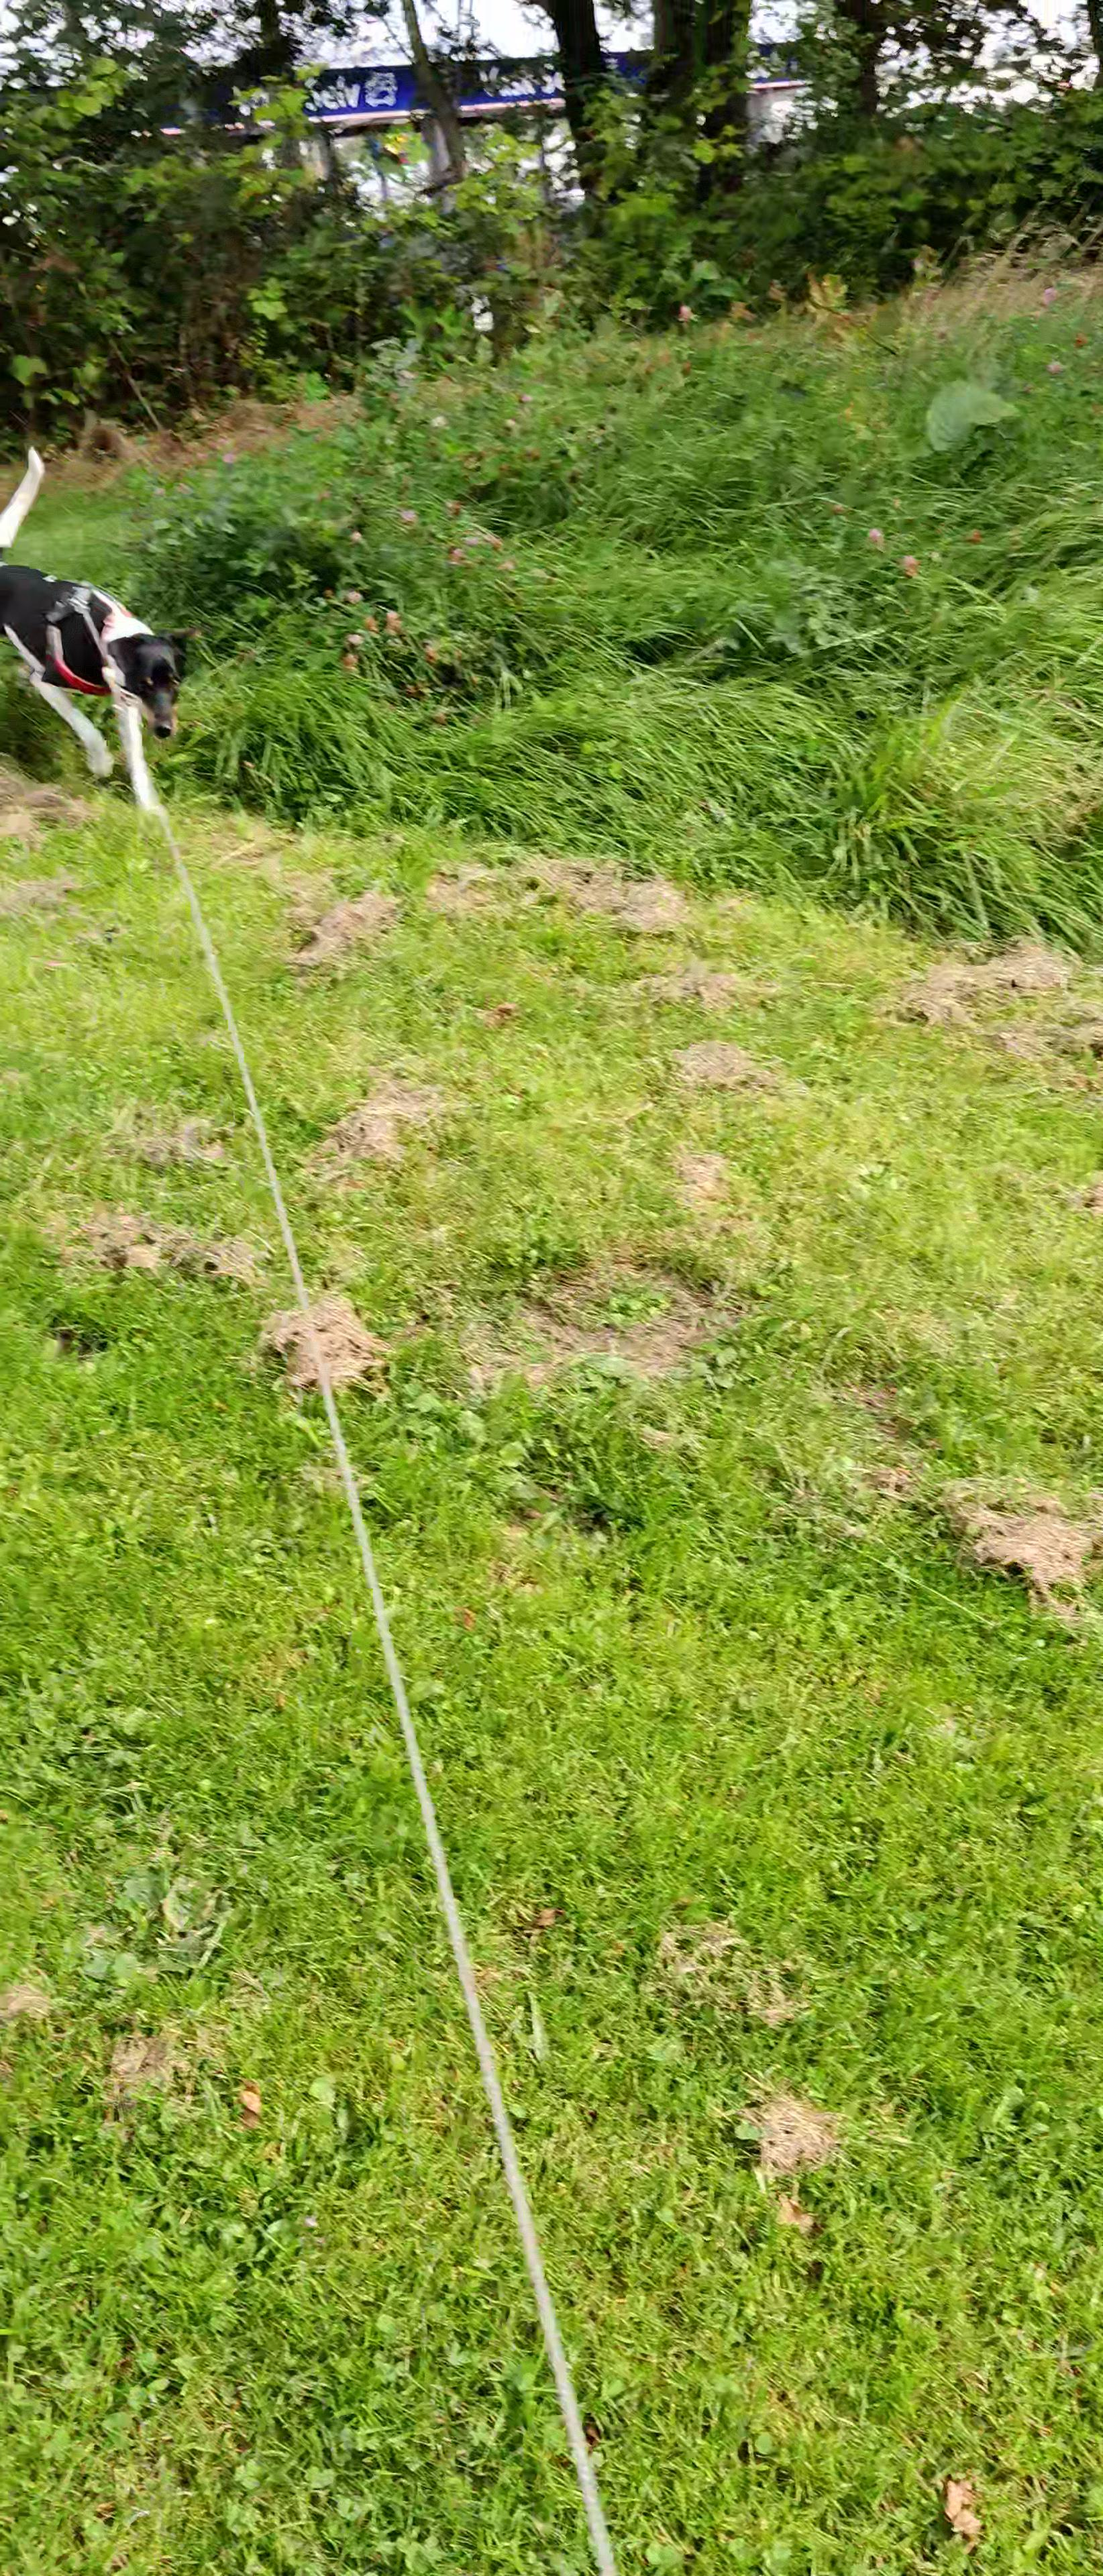Dog: (0, 437, 215, 816)
